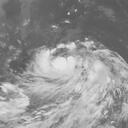cyclone: (25, 40, 116, 109)
